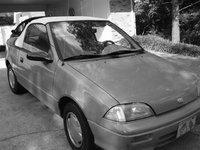car: (5, 16, 200, 150)
